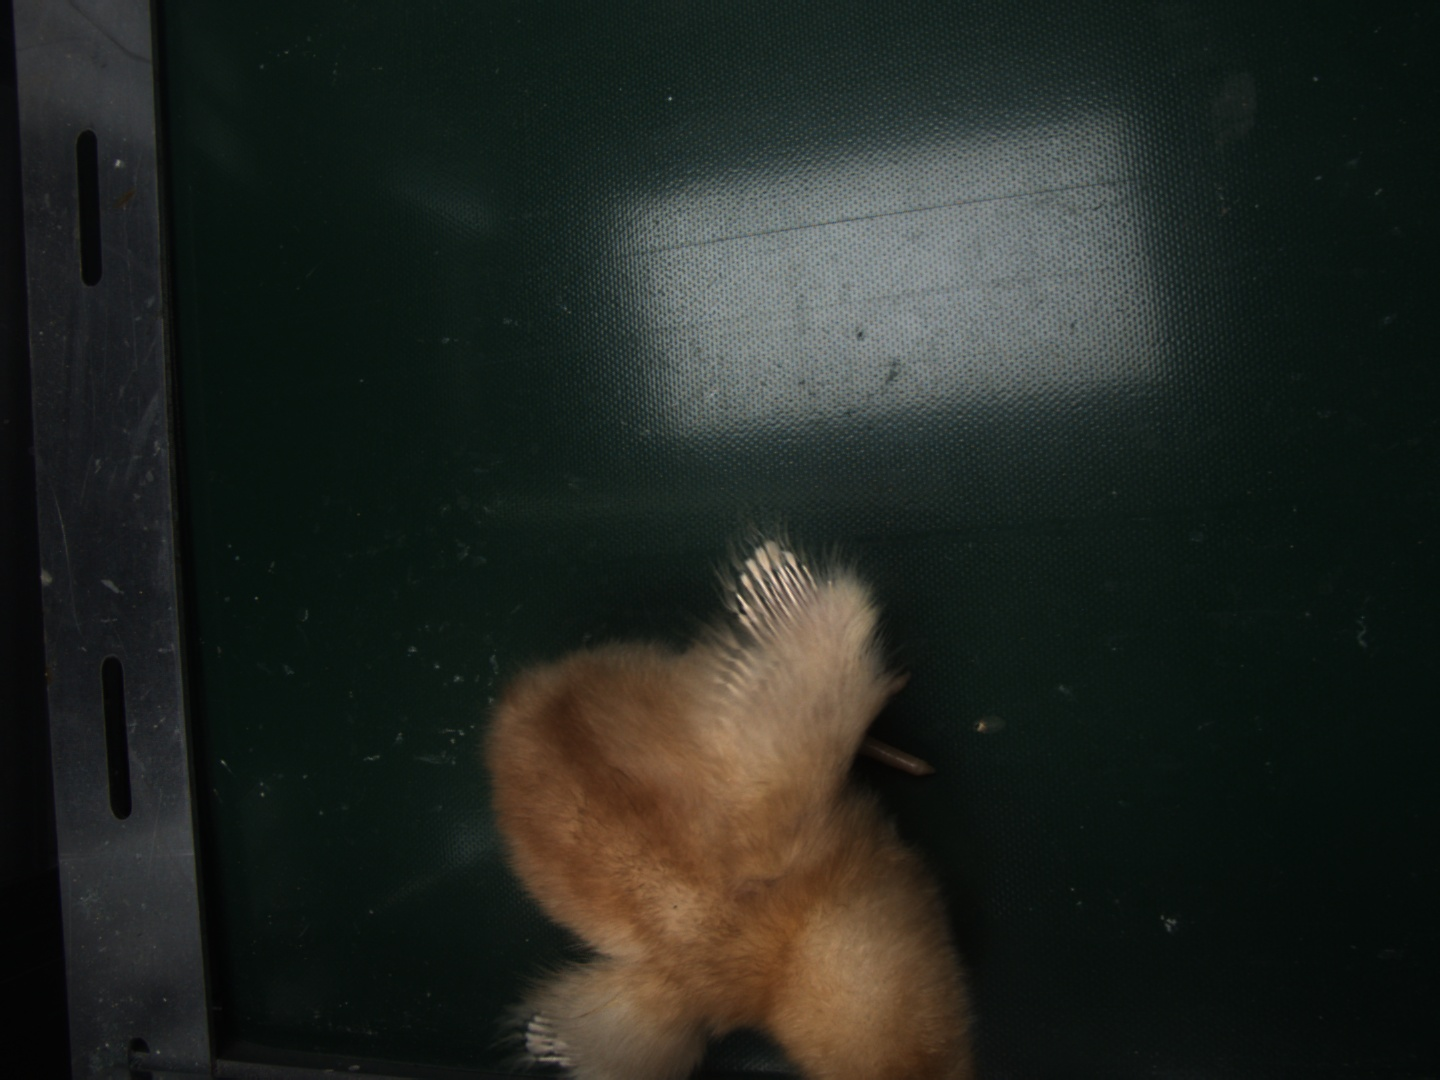female: (725, 537, 824, 646)
